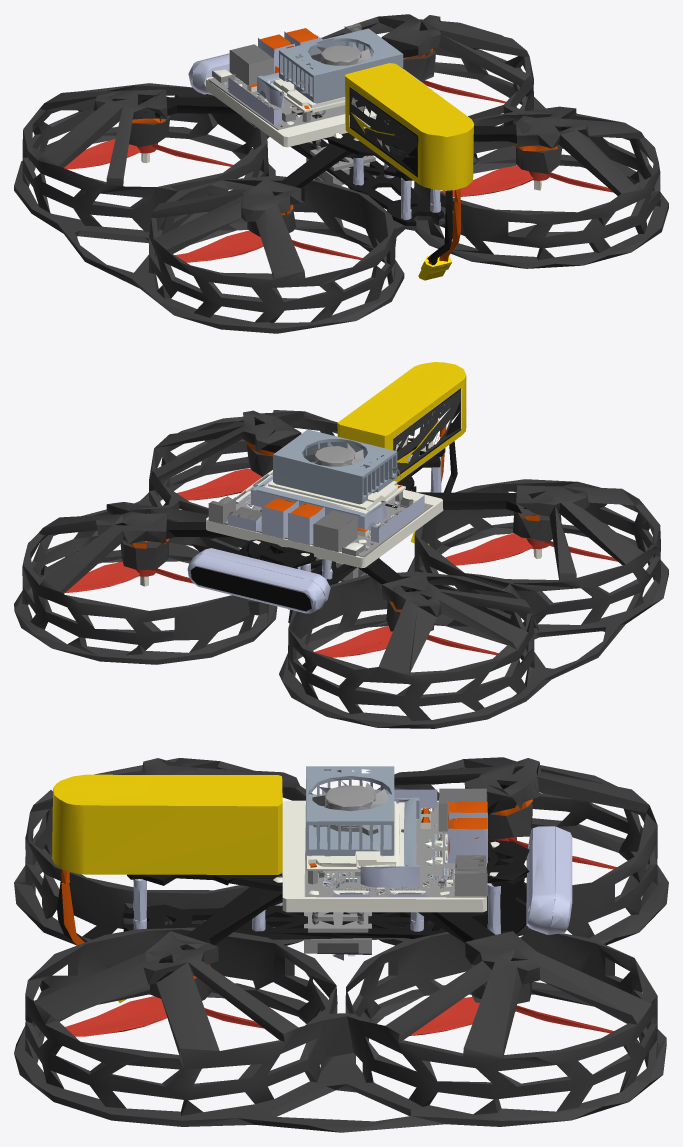
Rendered from fyp-drone.glb.
The picture shows the model from 3 angles, top to bottom: view 1: azimuth 30°, elevation 25°; view 2: azimuth 150°, elevation 25°; view 3: azimuth 270°, elevation 25°; orthographic projection. The views are drawn at different scales.
Visible parts, largest first — view 1: part-frame, part-compute, part-power, part-motors, object 1, rotor-3, rotor-1, rotor-2, part-depth-camera; view 2: part-frame, part-compute, part-power, part-depth-camera, part-motors, rotor-1, rotor-2, rotor-4, rotor-3, object 1; view 3: part-frame, part-compute, part-power, part-depth-camera, object 1, rotor-3, part-motors, rotor-4, part-flight-controller.
Part boxes in pixels (box(x1,y1,x2,y2)): part-frame: box(14, 14, 668, 333); part-compute: box(206, 23, 442, 147); part-power: box(345, 63, 473, 190); part-motors: box(129, 48, 562, 236); object 1: box(310, 133, 460, 280); rotor-3: box(441, 165, 613, 197); rotor-1: box(175, 230, 362, 262); rotor-2: box(64, 139, 232, 169); part-depth-camera: box(188, 34, 322, 95); part-frame: box(14, 410, 668, 728); part-compute: box(206, 429, 443, 568); part-power: box(337, 362, 466, 482); part-depth-camera: box(187, 548, 330, 613); part-motors: box(120, 441, 561, 631); rotor-1: box(445, 533, 617, 565); rotor-2: box(314, 626, 498, 657); rotor-4: box(65, 561, 193, 592); rotor-3: box(176, 468, 262, 500); object 1: box(252, 423, 457, 579); part-frame: box(14, 757, 668, 1132); part-compute: box(282, 766, 487, 912); part-power: box(52, 774, 282, 877); part-depth-camera: box(526, 826, 572, 934); object 1: box(57, 841, 500, 1002); rotor-3: box(65, 996, 263, 1036); part-motors: box(149, 799, 532, 1003); rotor-4: box(410, 997, 613, 1035); part-flight-controller: box(204, 912, 399, 960).
Bounding box in the file's own units: 0.3314 × 0.101 × 0.2893.
